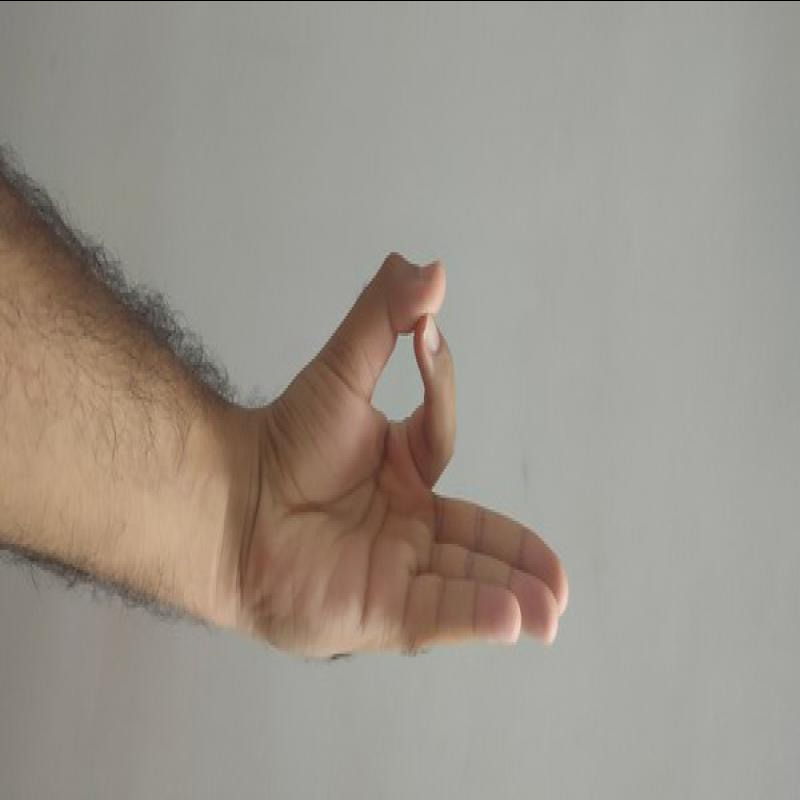Mudraakhyam: (227, 242, 593, 686)
